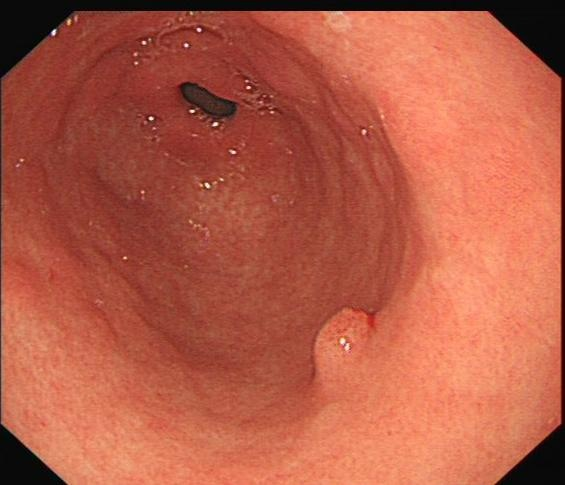Polyp: (307, 304, 384, 377)
